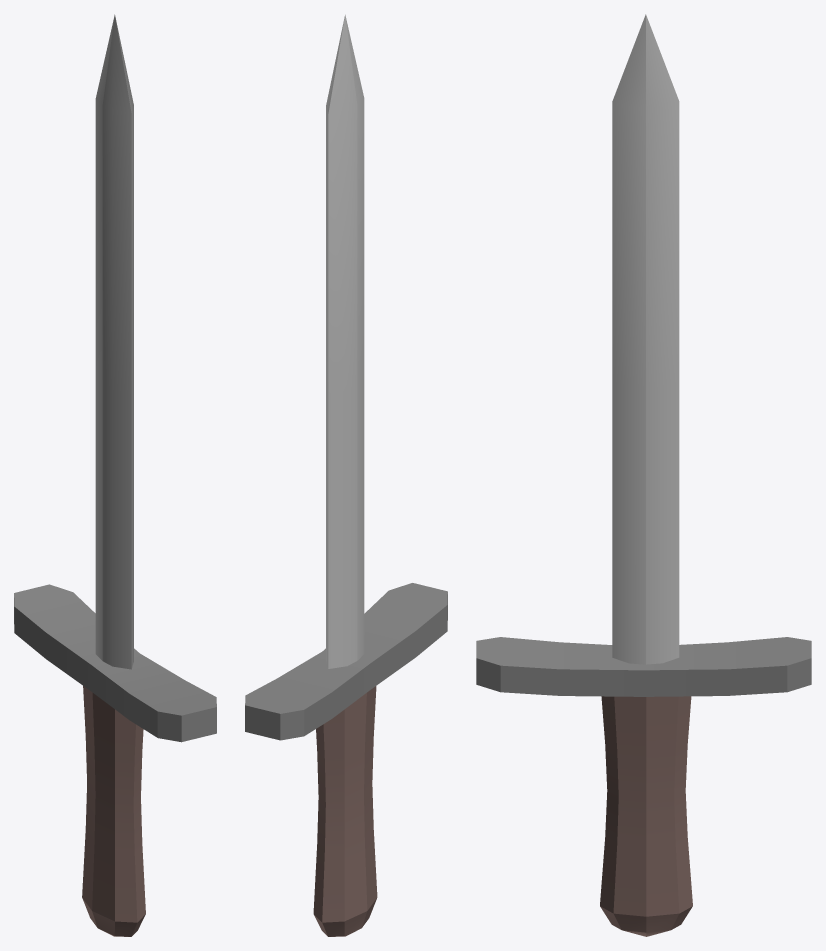
File: SM_Sword.fbx
The picture shows the model from 3 angles, left to right: view 1: azimuth 30°, elevation 25°; view 2: azimuth 150°, elevation 25°; view 3: azimuth 270°, elevation 25°; orthographic projection.
Parts seen in each view (by area): view 1: SM_Sword; view 2: SM_Sword; view 3: SM_Sword.
Boxes of the visible parts, bbox=[...] form: SM_Sword: bbox=[14, 14, 216, 936]; SM_Sword: bbox=[245, 14, 447, 936]; SM_Sword: bbox=[476, 14, 811, 936].
Bounding box in the file's own units: 12.39 × 186 × 61.16.
